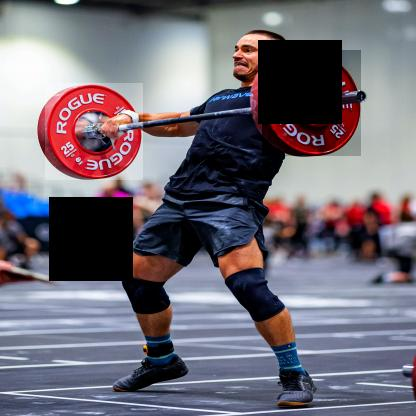barbell: (263, 51, 362, 157), (46, 84, 144, 181)
